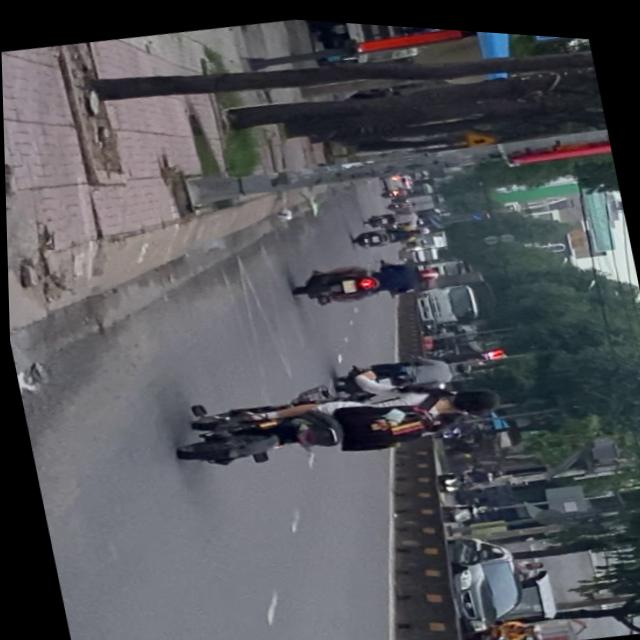licenseplate: (160, 334, 514, 492)
motorcyclist: (437, 375, 500, 417)
